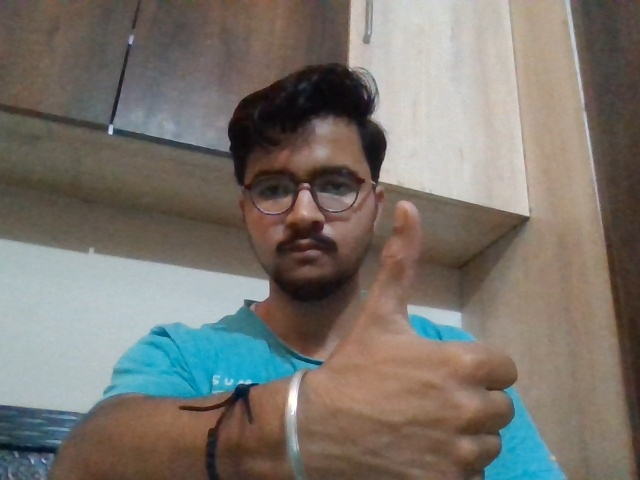yes: (322, 192, 528, 480)
